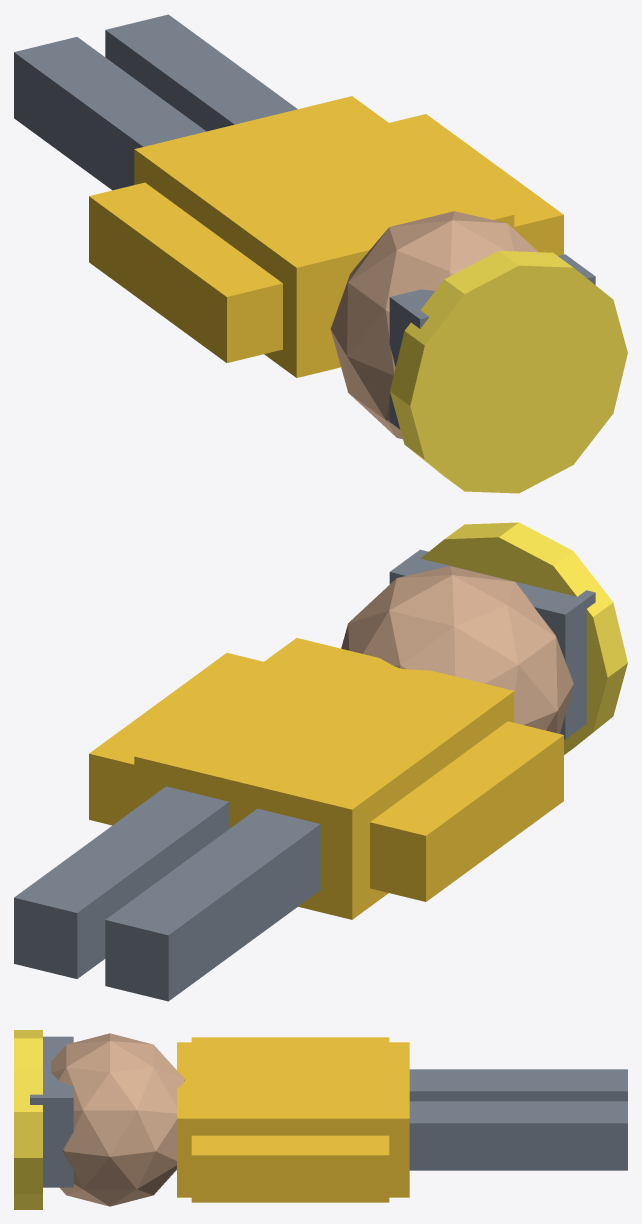
The model's file is safety_variant_3.glb.
3 renders of one model, top to bottom at view 1: azimuth 30°, elevation 25°; view 2: azimuth 150°, elevation 25°; view 3: azimuth 270°, elevation 25°, orthographic. The views are drawn at different scales.
Visible parts, largest first — view 1: torso_2, helmet_7, arm_l_3, leg_l_0, head_5, leg_r_1, arm_r_4, hair_6; view 2: torso_2, leg_l_0, head_5, arm_l_3, leg_r_1, helmet_7, arm_r_4, hair_6; view 3: torso_2, head_5, leg_r_1, arm_r_4, leg_l_0, helmet_7, hair_6, arm_l_3.
Boxes of the visible parts, bbox=[...] form: torso_2: bbox=[134, 96, 514, 377]; helmet_7: bbox=[390, 250, 627, 493]; arm_l_3: bbox=[89, 182, 282, 362]; leg_l_0: bbox=[14, 37, 206, 190]; head_5: bbox=[330, 211, 538, 439]; leg_r_1: bbox=[105, 14, 297, 131]; arm_r_4: bbox=[389, 114, 563, 255]; hair_6: bbox=[389, 254, 595, 429]; torso_2: bbox=[134, 638, 514, 919]; leg_l_0: bbox=[105, 808, 320, 1001]; head_5: bbox=[341, 566, 573, 733]; arm_l_3: bbox=[370, 721, 563, 901]; leg_r_1: bbox=[14, 786, 229, 978]; helmet_7: bbox=[420, 522, 627, 754]; arm_r_4: bbox=[89, 653, 263, 825]; hair_6: bbox=[389, 549, 595, 739]; torso_2: bbox=[177, 1042, 409, 1197]; head_5: bbox=[51, 1033, 184, 1206]; leg_r_1: bbox=[409, 1101, 627, 1170]; arm_r_4: bbox=[191, 1135, 389, 1202]; leg_l_0: bbox=[409, 1069, 627, 1101]; helmet_7: bbox=[14, 1030, 42, 1209]; hair_6: bbox=[30, 1036, 73, 1187]; arm_l_3: bbox=[191, 1037, 389, 1042].
Size of the model in its own units: 0.96 by 0.62 by 2.11.
